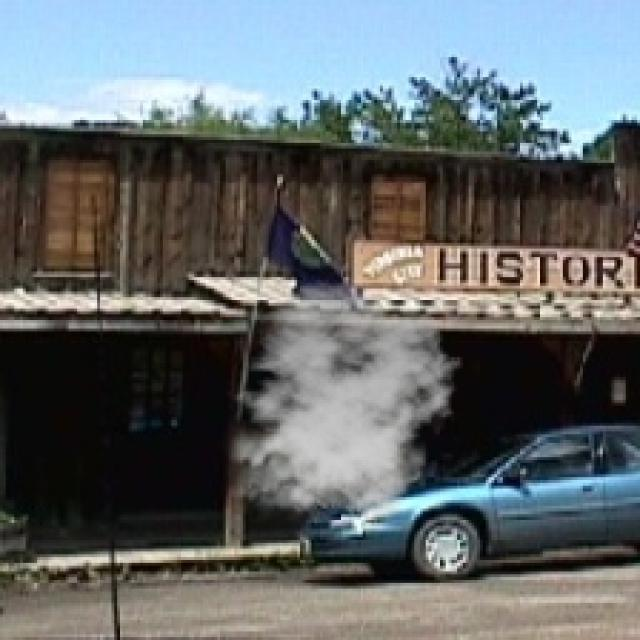smoke: (217, 280, 463, 529)
